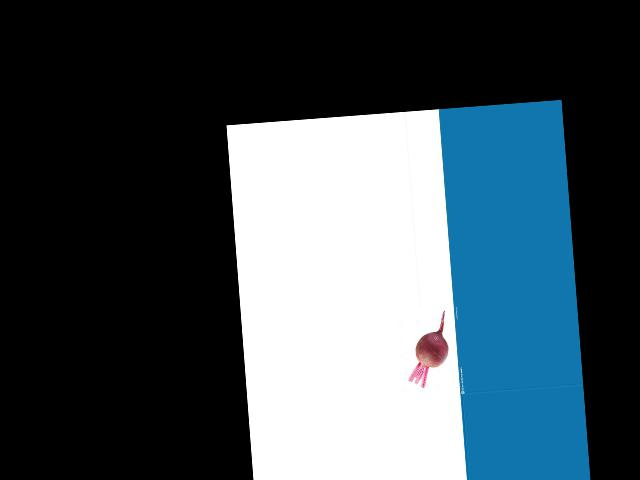beet: (404, 311, 450, 388)
